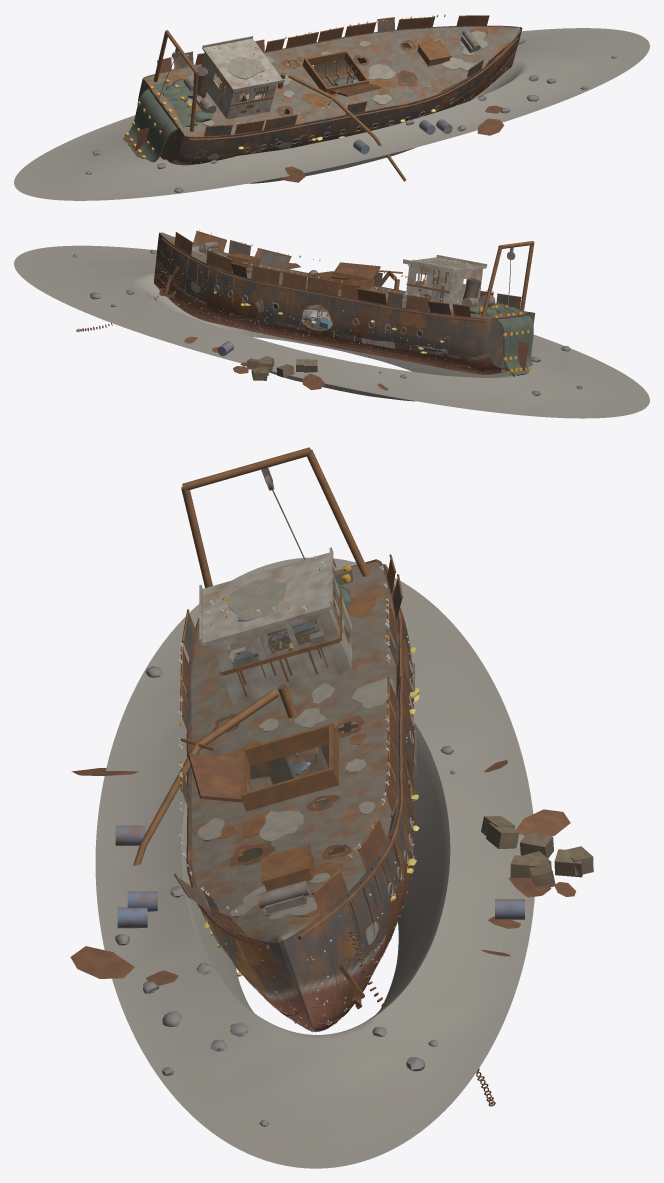
Rendered from SM_Shipwreck.fbx.
3 renders of one model, top to bottom at view 1: azimuth 30°, elevation 25°; view 2: azimuth 150°, elevation 25°; view 3: azimuth 270°, elevation 25°, orthographic. The views are drawn at different scales.
Visible parts, largest first — view 1: SM_Shipwreck; view 2: SM_Shipwreck; view 3: SM_Shipwreck.
Boxes of the visible parts, <box> form: SM_Shipwreck: <box>14,14,649,200</box>; SM_Shipwreck: <box>14,229,649,418</box>; SM_Shipwreck: <box>70,447,593,1168</box>.
Bounding box in the file's own units: 42.24 × 10.56 × 15.28.
4 materials, 1 textured.
